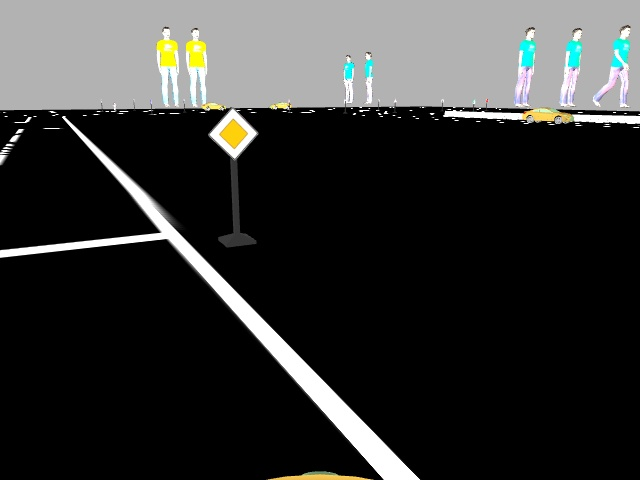Priority: (209, 107, 258, 162)
